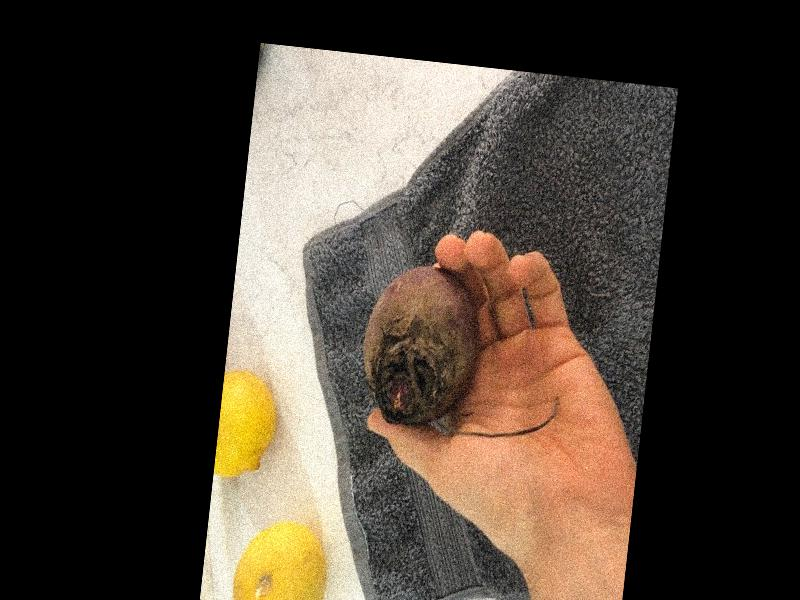Beet: (355, 258, 571, 440)
